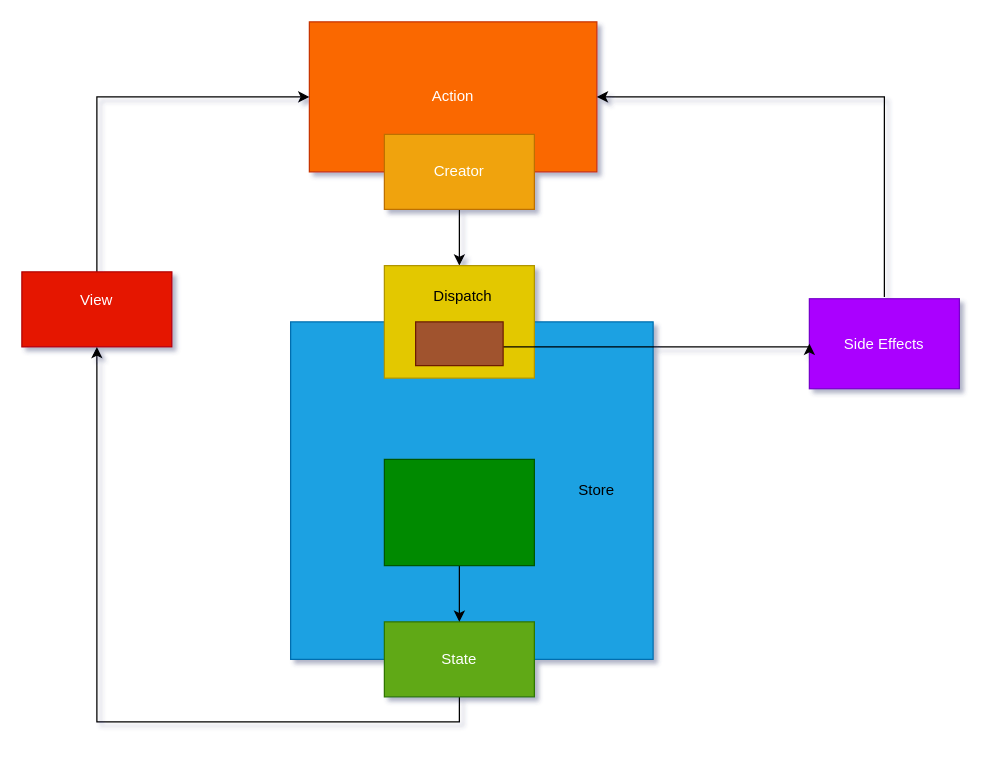
Some shapes in this 989 by 761 pixel diagram are drawn without their labels. The box of each missing label's shape, as (x1, y1, x2, y2) in pixels:
Middlemare: (414, 321, 503, 366)
Reducer: (383, 458, 534, 566)
